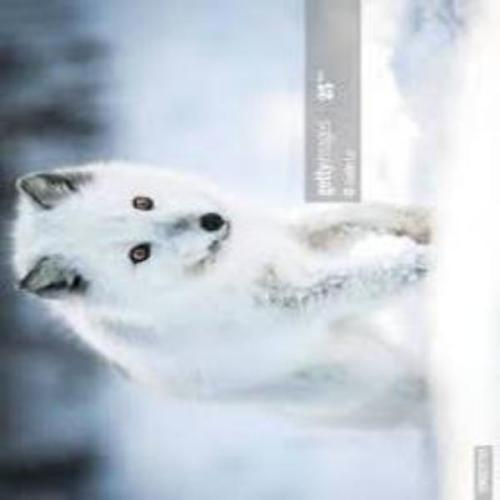arctic_fox-endangered: (10, 163, 431, 431)
